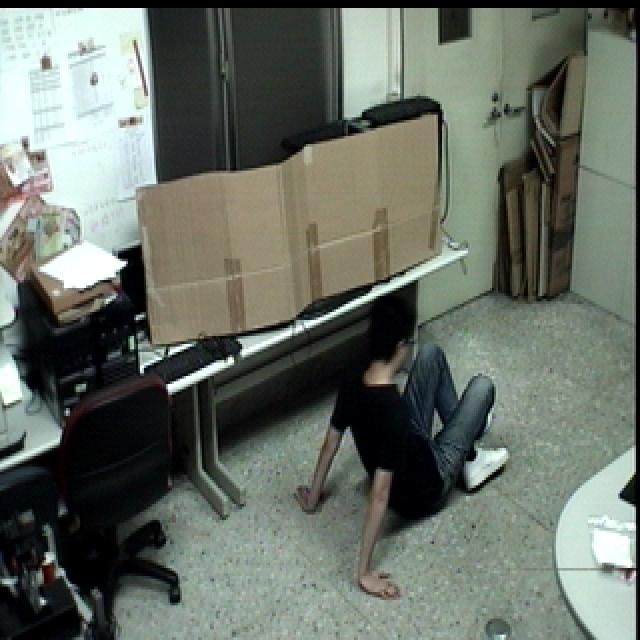sit: (290, 291, 516, 604)
